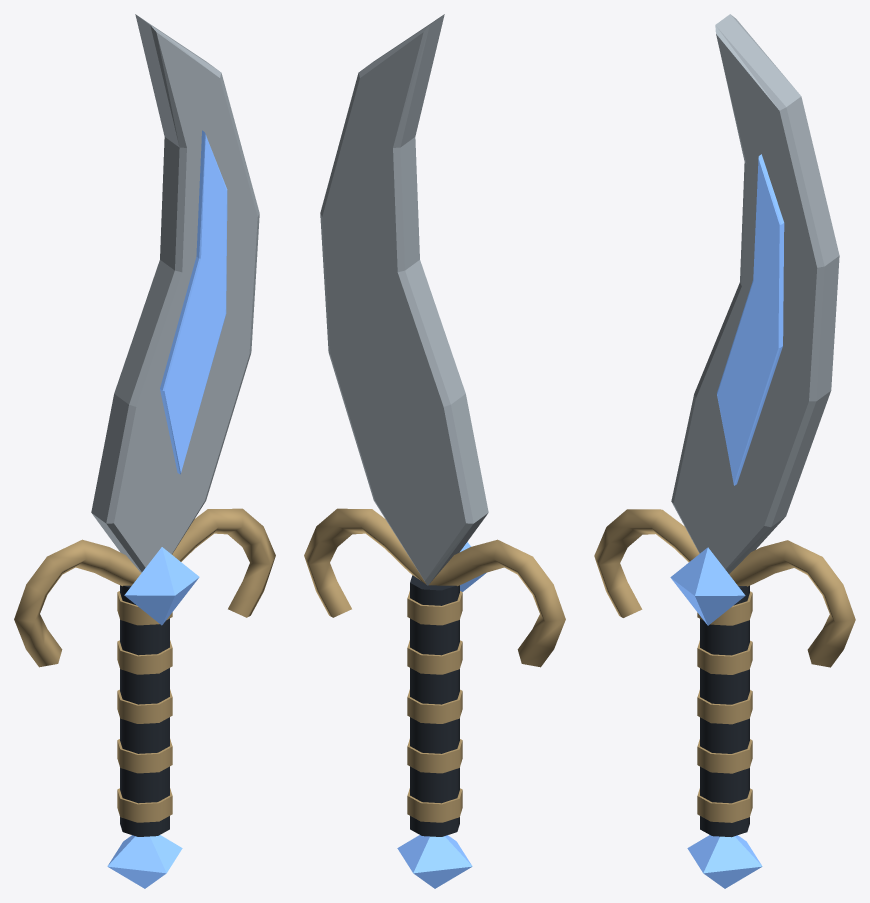
Rendered from universal-low.glb.
The picture shows the model from 3 angles, left to right: view 1: azimuth 30°, elevation 25°; view 2: azimuth 150°, elevation 25°; view 3: azimuth 330°, elevation 25°; orthographic projection.
Parts seen in each view (by area): view 1: Skyweaver Dagger; view 2: Skyweaver Dagger; view 3: Skyweaver Dagger.
Boxes of the visible parts, x1=… form: Skyweaver Dagger: x1=14, y1=14, x2=275, y2=888; Skyweaver Dagger: x1=304, y1=14, x2=565, y2=888; Skyweaver Dagger: x1=594, y1=14, x2=855, y2=888.
Bounding box in the file's own units: 0.2222 × 0.7055 × 0.0762.
